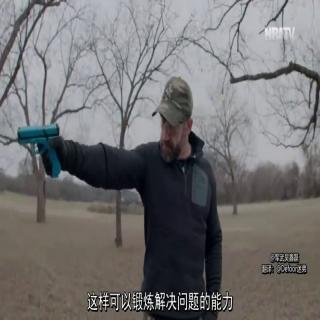gun: (8, 113, 70, 188)
